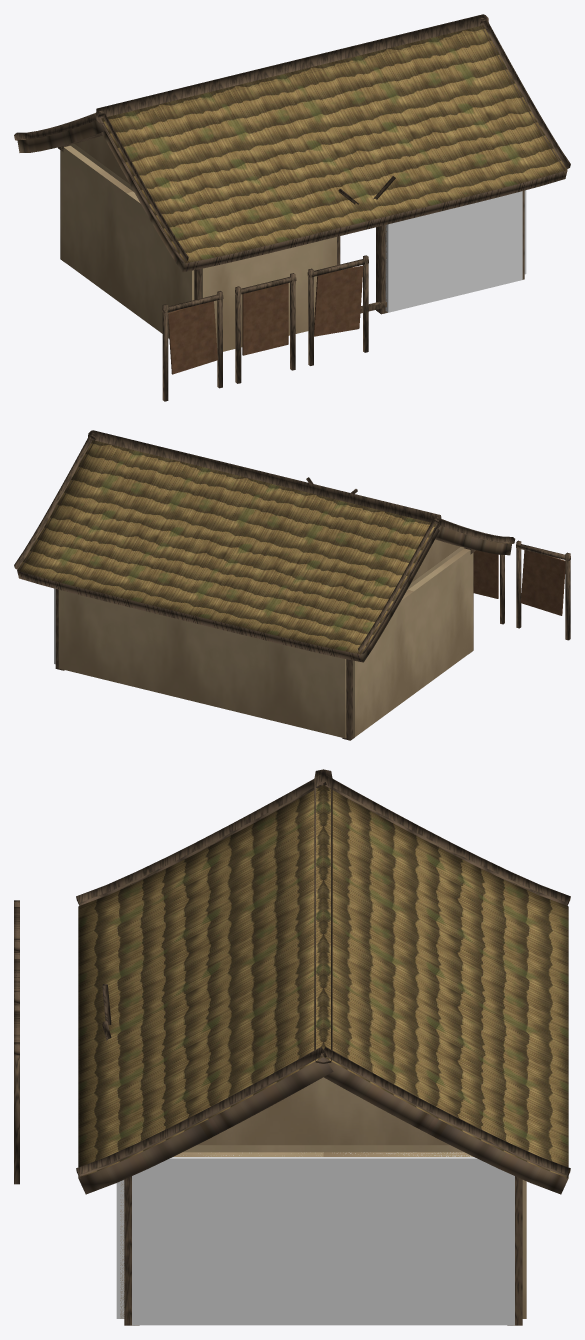
The model's file is hunter_lodge.glb.
3 views of the same model, one above another, from view 1: azimuth 30°, elevation 25°; view 2: azimuth 150°, elevation 25°; view 3: azimuth 270°, elevation 25° (orthographic). The views are drawn at different scales.
Visible parts, largest first — view 1: HutRoof, HutWalls, Front-convcolonly.001, Pelts, HutRoofRidge, PeltFrames, HutFrame, HutGables; view 2: HutRoof, HutWalls, HutRoofRidge, Pelts, PeltFrames, HutFrame, HutGables; view 3: HutRoof, Side-convcolonly.001, HutRoofRidge, HutGables, HutWalls, HutFrame, PeltFrames, Front-convcolonly.001.
Boxes of the visible parts, x1,y1,x2,y2 form: HutRoof: (17, 25, 567, 272); HutWalls: (60, 145, 386, 351); Front-convcolonly.001: (385, 191, 522, 312); Pelts: (168, 265, 363, 374); HutRoofRidge: (14, 14, 570, 262); PeltFrames: (162, 176, 395, 401); HutFrame: (58, 144, 524, 314); HutGables: (70, 135, 133, 191); HutRoof: (17, 440, 511, 662); HutWalls: (58, 548, 473, 738); HutRoofRidge: (14, 430, 515, 653); Pelts: (473, 550, 565, 615); PeltFrames: (306, 477, 570, 640); HutFrame: (55, 547, 475, 740); HutGables: (407, 539, 464, 589); HutRoof: (78, 785, 568, 1194); Side-convcolonly.001: (132, 1152, 514, 1325); HutRoofRidge: (76, 769, 570, 1178); HutGables: (183, 1077, 463, 1152); HutWalls: (120, 1152, 526, 1318); HutFrame: (124, 1176, 522, 1325); PeltFrames: (14, 900, 111, 1184); Front-convcolonly.001: (116, 1180, 124, 1318).
Size of what is drawn, in the model's own units: 9.41 by 4.35 by 7.27.
Materials: 4 (4 with a texture image).
